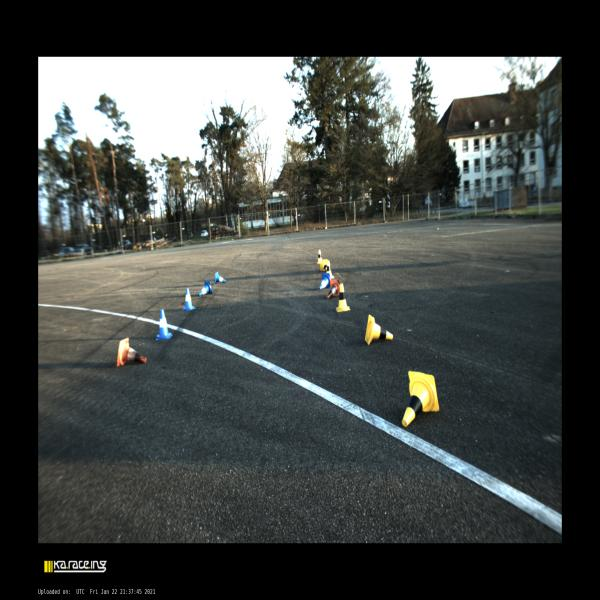blue_cone: (156, 309, 172, 340), (181, 288, 196, 311), (199, 281, 212, 296), (319, 274, 330, 290), (214, 272, 225, 284)
orange_cone: (117, 338, 146, 366), (326, 280, 340, 299)
yellow_cone: (402, 371, 439, 427), (364, 315, 394, 345), (336, 284, 350, 312), (327, 260, 334, 278), (320, 259, 328, 271), (316, 249, 322, 264)
